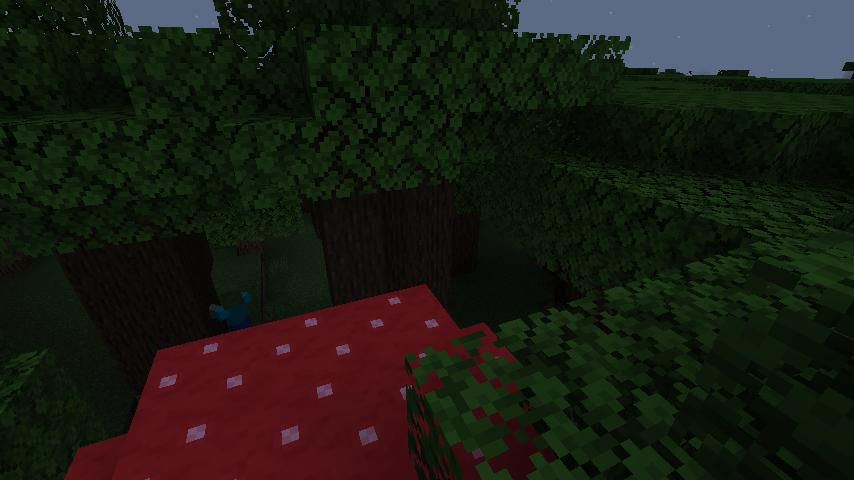zombie: (212, 282, 253, 328)
